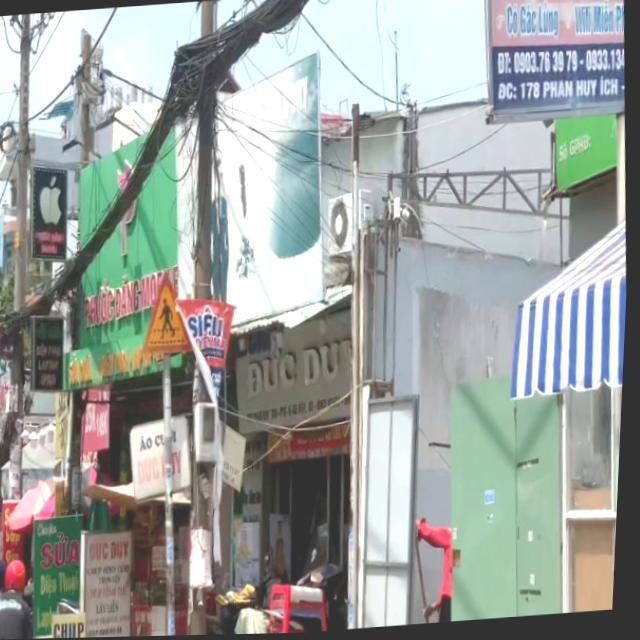Nguoi di bo cat ngang: (140, 269, 199, 355)
